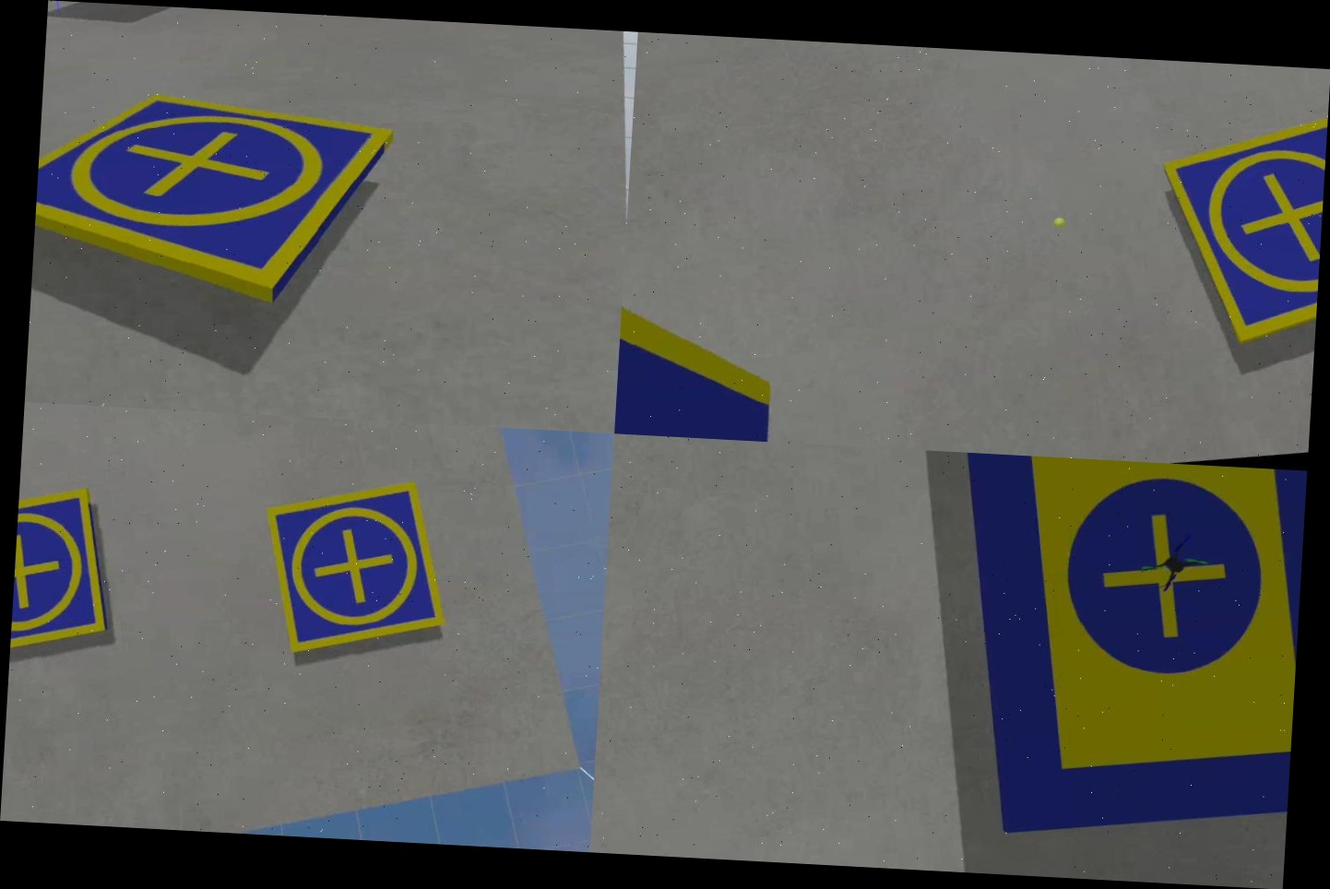large_base: (932, 452, 1306, 843)
small_base: (29, 56, 430, 349), (1147, 92, 1328, 353), (254, 470, 458, 669), (9, 483, 121, 671)
